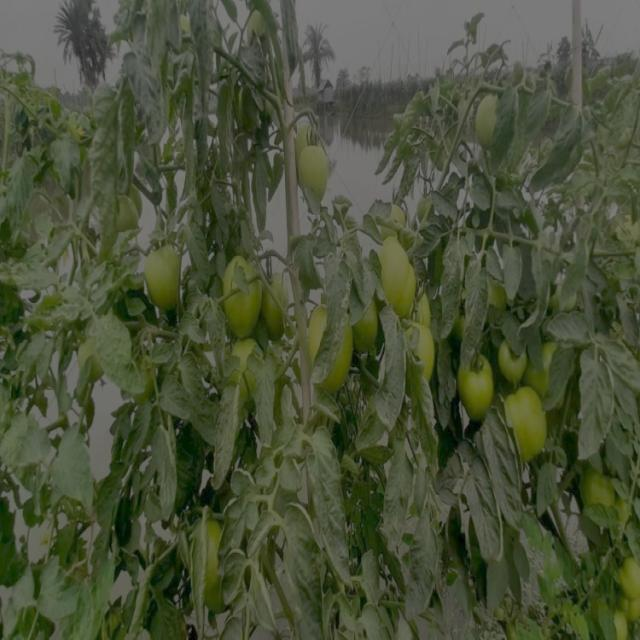tomato: (308, 300, 353, 397), (188, 515, 233, 602), (296, 122, 336, 208), (505, 384, 550, 459), (374, 241, 420, 313), (225, 252, 261, 335), (457, 348, 496, 422), (398, 324, 442, 381), (143, 242, 180, 308), (468, 86, 504, 146), (353, 290, 382, 349), (265, 269, 289, 336), (583, 472, 617, 517), (108, 193, 141, 238), (500, 334, 529, 382), (540, 339, 570, 382), (377, 204, 411, 239), (243, 8, 271, 50), (617, 556, 640, 596), (619, 215, 640, 243), (620, 599, 640, 623)
